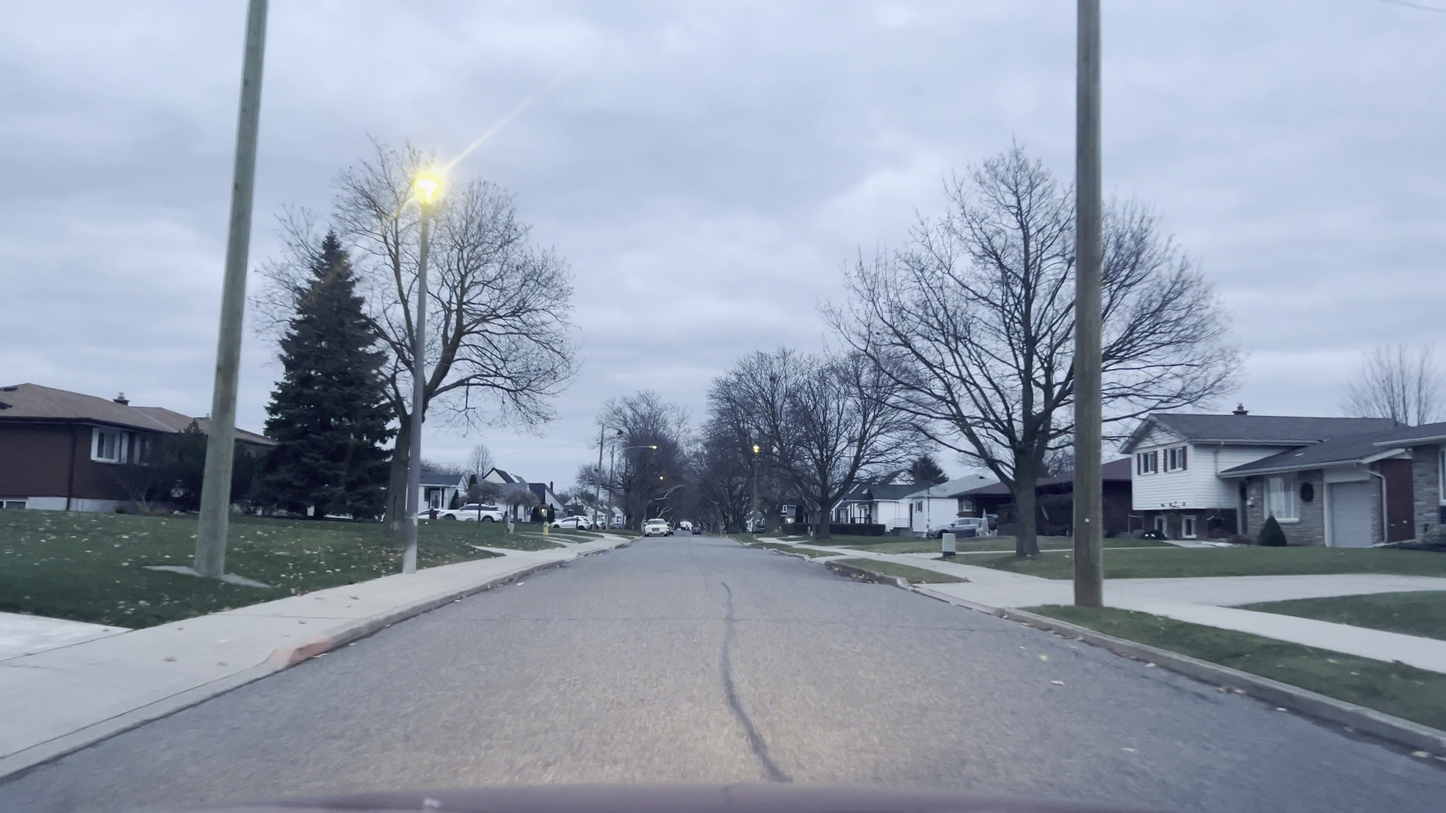cracks: (713, 577, 789, 781)
